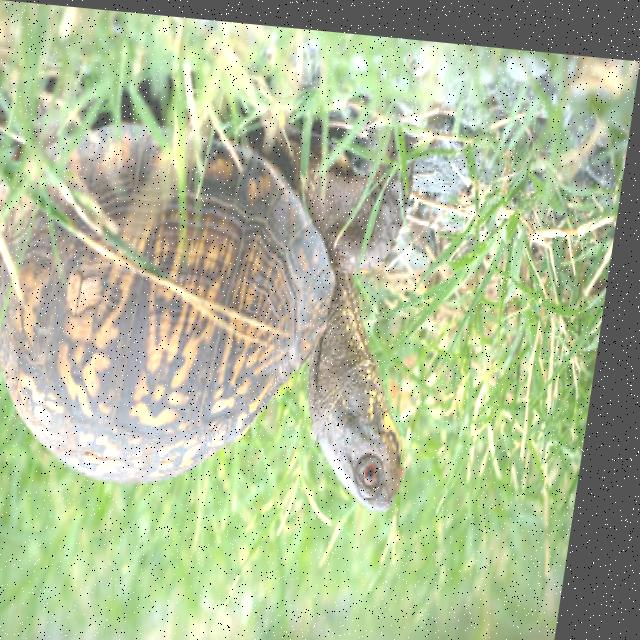tortoise: (0, 93, 441, 533), (302, 296, 439, 527)
